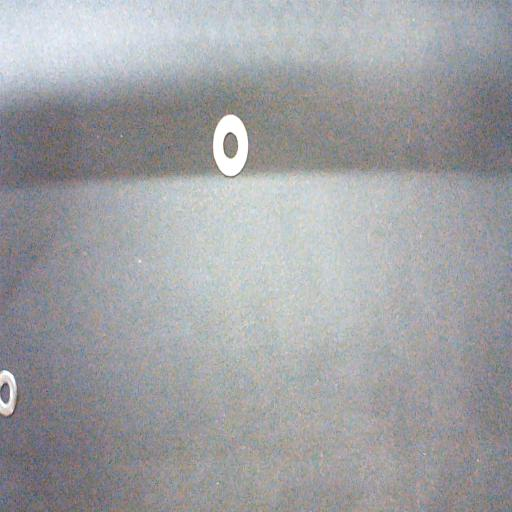nut: (0, 370, 17, 418)
washer: (213, 114, 248, 177)
